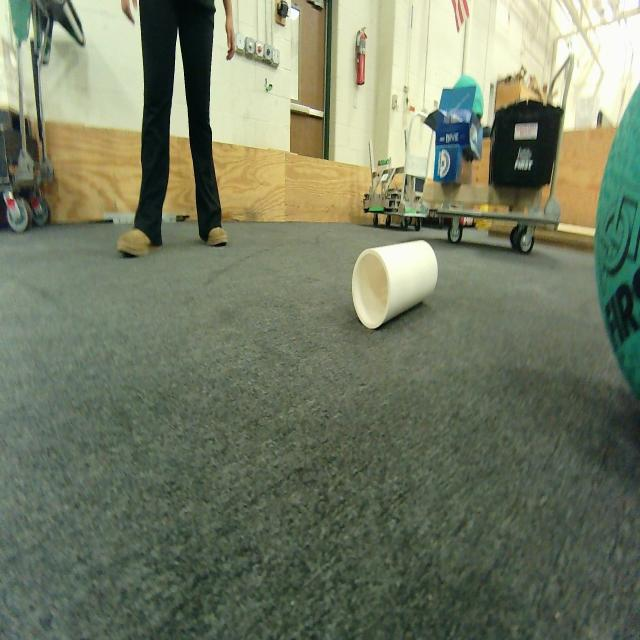coral: (344, 221, 446, 338)
